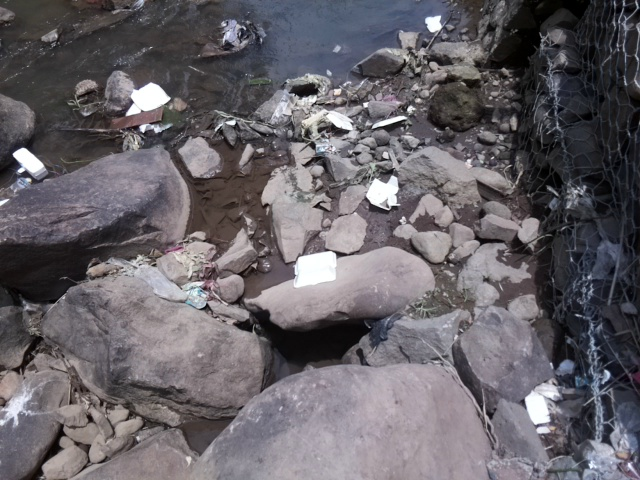Sampah_Styrofoam: (292, 250, 339, 288), (10, 143, 48, 182), (127, 83, 172, 112), (364, 177, 400, 211), (327, 106, 353, 132), (369, 114, 407, 128), (423, 13, 443, 35)
